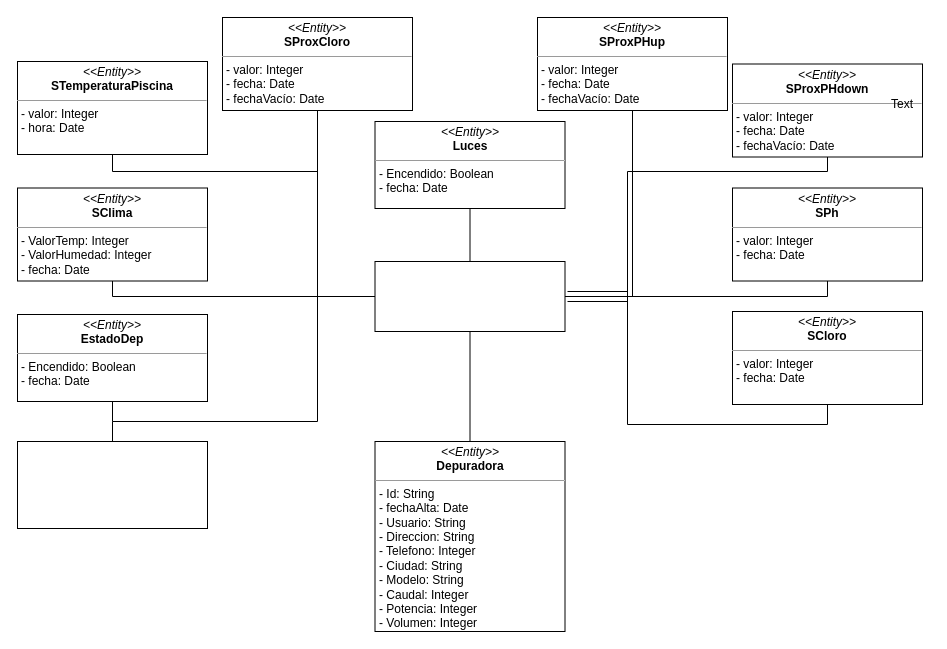
This 947x649 diagram has some shape labels left out. Here are the shapes that lost their labels. From the top down, the centre of each, then its label:
At point 469,296: "<<Entity>> Sensores - Nombre: String".
At point 112,484: "<<Entity>> Cubrepiscinas - Puesto: Boolean - fecha: Date".
